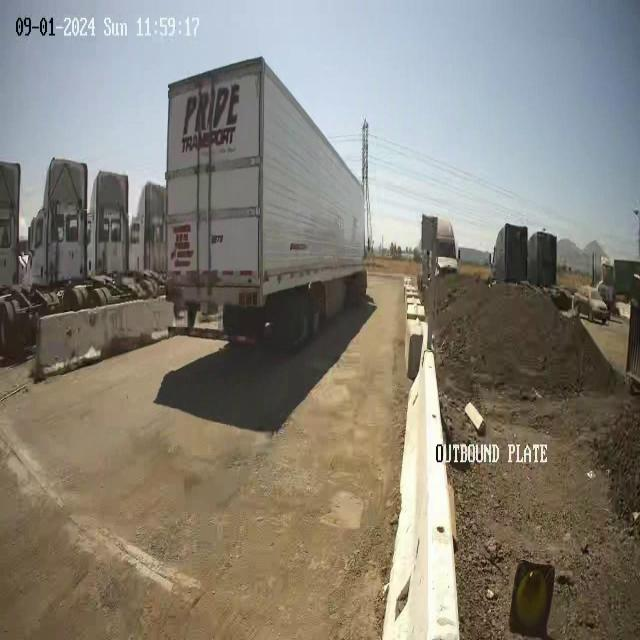TRUCK_IN: (165, 55, 368, 351)
